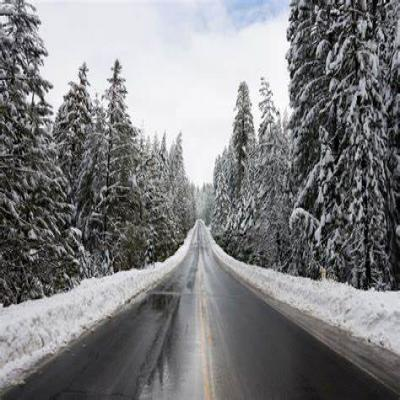iced-road: (4, 223, 399, 400)
